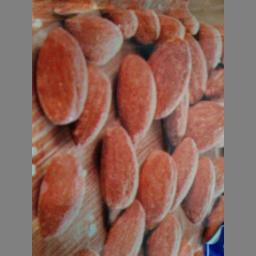nuts: (32, 0, 223, 255)
